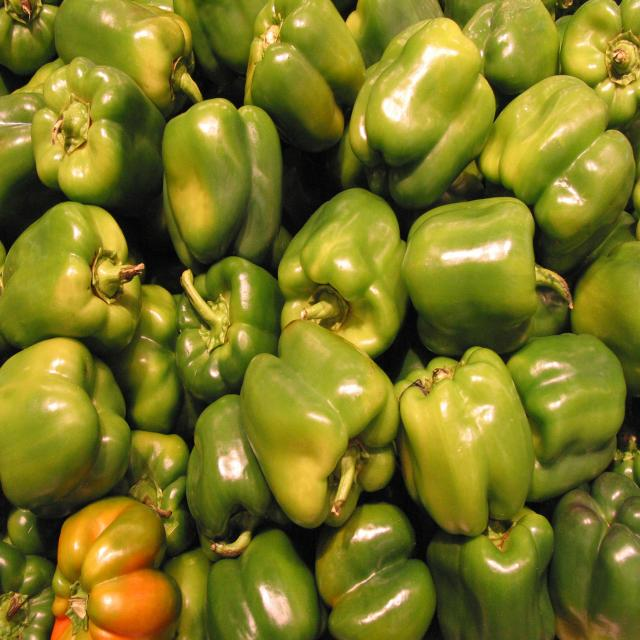bell pepper: (407, 198, 554, 347), (253, 330, 390, 484), (0, 354, 132, 500), (154, 102, 277, 254), (366, 27, 488, 179), (412, 372, 534, 522), (6, 206, 139, 333), (442, 545, 594, 640), (282, 190, 397, 312), (50, 527, 168, 640), (39, 69, 144, 195), (536, 92, 629, 229), (332, 519, 430, 640), (260, 14, 362, 123), (532, 353, 630, 465), (568, 489, 640, 640), (177, 273, 247, 390), (192, 425, 258, 544)
